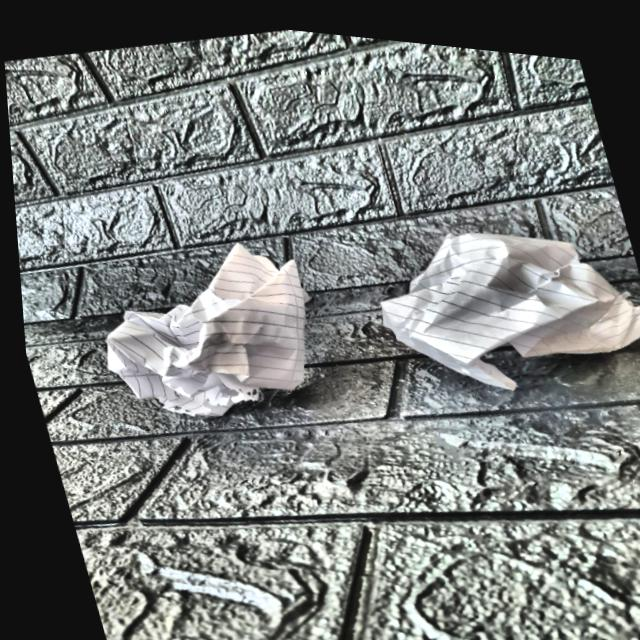Paper: (343, 179, 640, 410), (65, 211, 336, 444)
